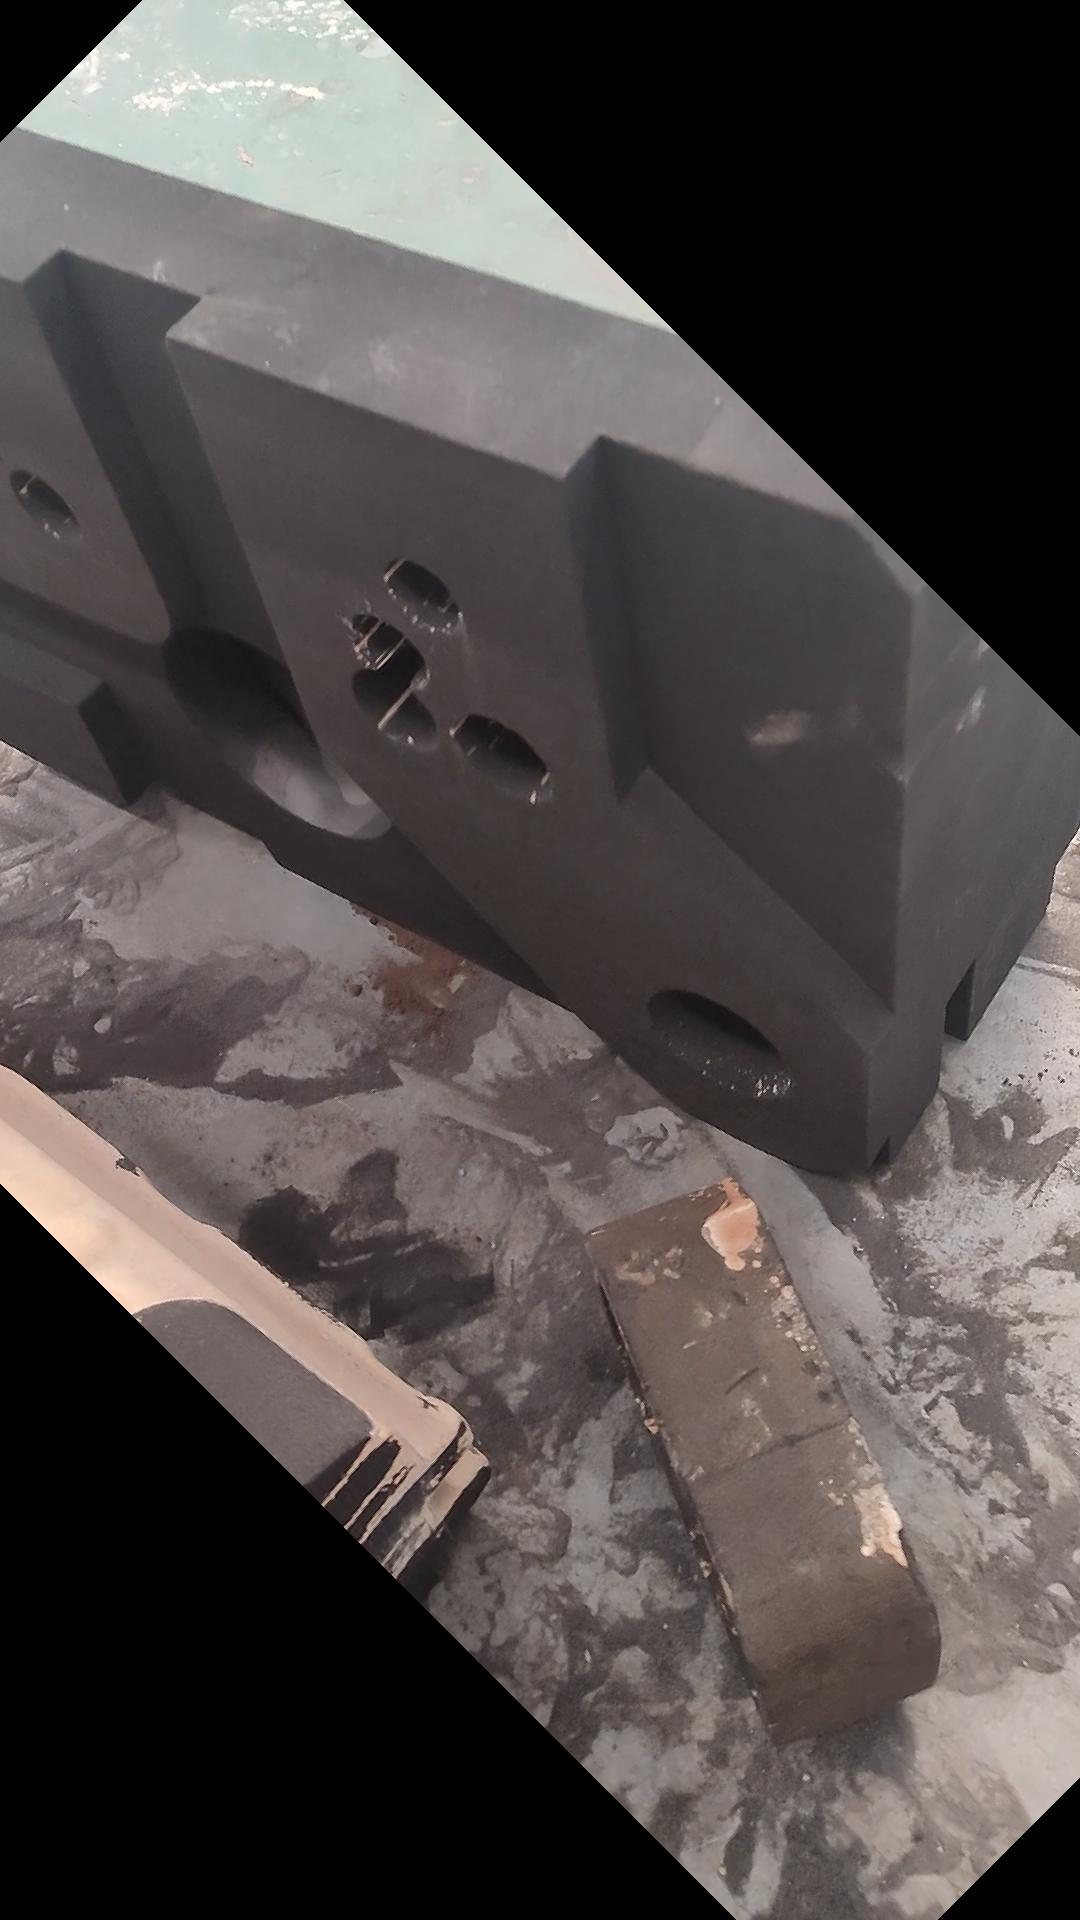pouring hole: (647, 986, 791, 1104)
